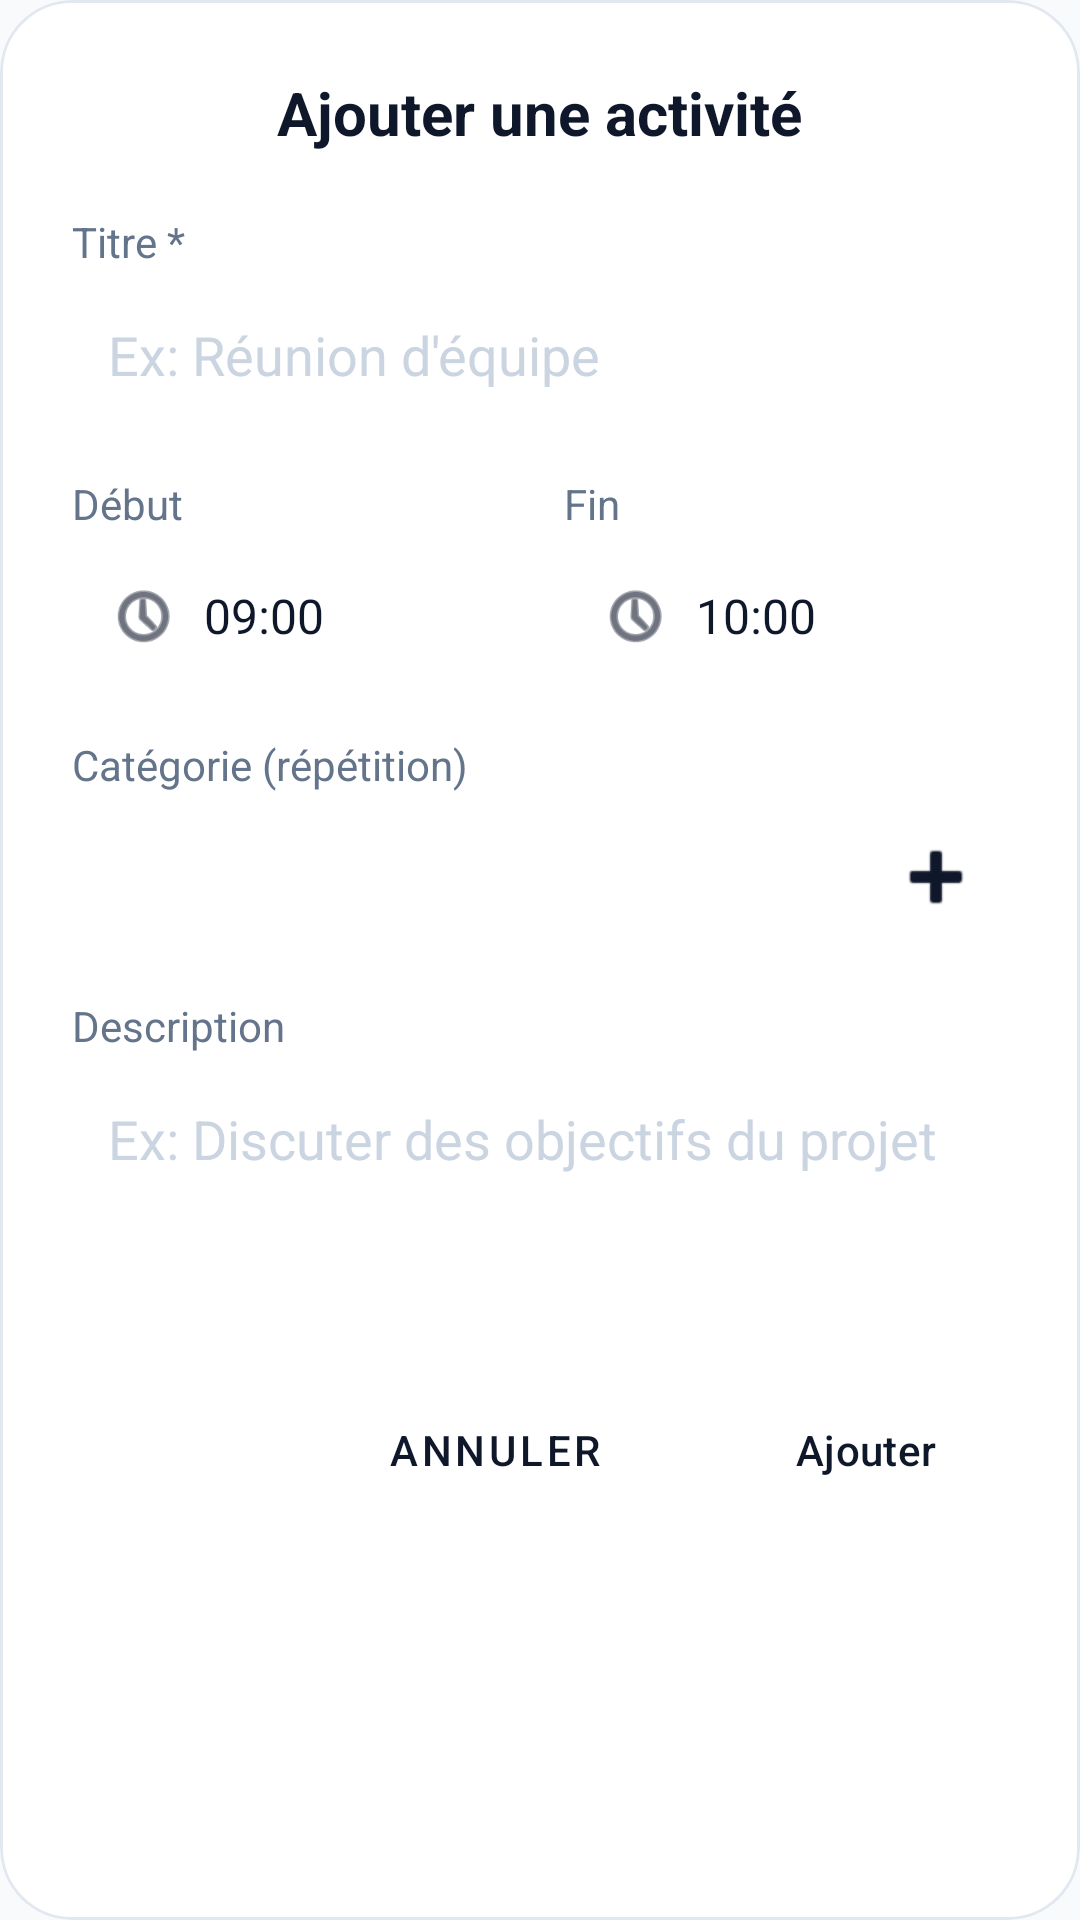

Icon bounding boxes for this 1080 x 1920 phone screenshot, format (x1, y1, x2, y2):
Créer une catégorie: (909, 850, 963, 904)
